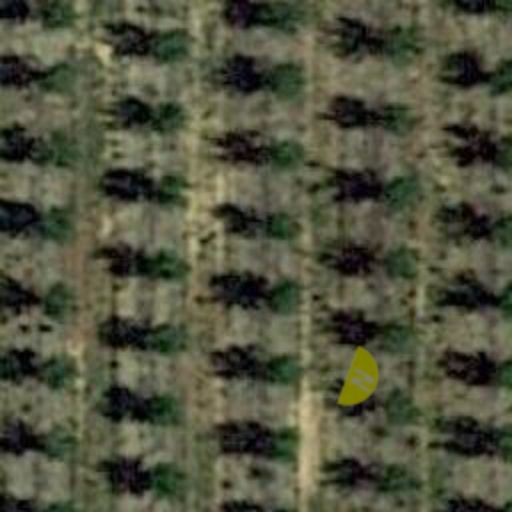semicircle: (322, 340, 402, 420)
